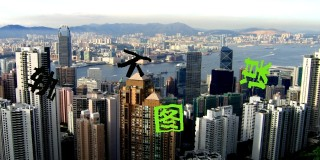不: (118, 47, 152, 79)
图: (155, 103, 183, 133)
谋: (241, 57, 272, 89)
轨: (26, 65, 61, 101)
